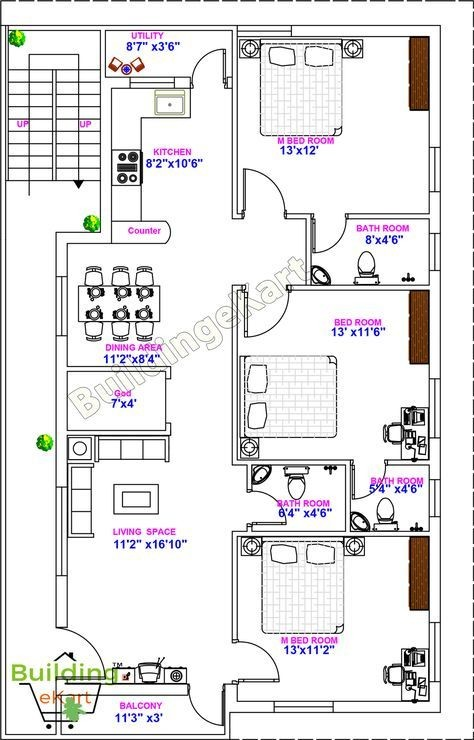door: (243, 165, 286, 222), (60, 628, 106, 676), (309, 210, 350, 261), (239, 639, 280, 687), (248, 290, 289, 337), (191, 47, 229, 87), (250, 490, 285, 528), (355, 467, 385, 498)
room: (67, 442, 232, 677), (239, 293, 428, 459), (243, 47, 430, 213), (239, 541, 423, 704), (68, 247, 223, 365), (117, 87, 235, 227), (74, 370, 190, 439), (253, 465, 347, 521), (355, 467, 424, 532)
wall: (58, 678, 193, 700), (226, 286, 241, 465), (51, 336, 68, 489), (294, 22, 443, 38), (100, 73, 114, 224), (426, 26, 443, 147), (104, 19, 239, 33), (426, 270, 443, 377), (333, 698, 443, 713), (429, 515, 444, 623), (293, 282, 429, 292), (233, 33, 240, 221), (236, 455, 355, 466), (55, 226, 113, 247), (234, 529, 347, 537), (352, 529, 430, 540), (231, 533, 239, 639), (51, 229, 68, 278), (226, 699, 274, 716), (54, 575, 69, 629), (350, 211, 427, 220), (223, 682, 240, 717), (427, 437, 441, 478), (304, 216, 311, 286), (428, 190, 439, 233), (346, 462, 351, 533), (287, 209, 311, 219)
window: (55, 483, 71, 575), (51, 278, 68, 336), (241, 22, 295, 40), (278, 697, 332, 715), (130, 72, 175, 91), (429, 625, 443, 684), (425, 234, 442, 269), (429, 382, 440, 433), (427, 479, 441, 515), (428, 148, 440, 189)
